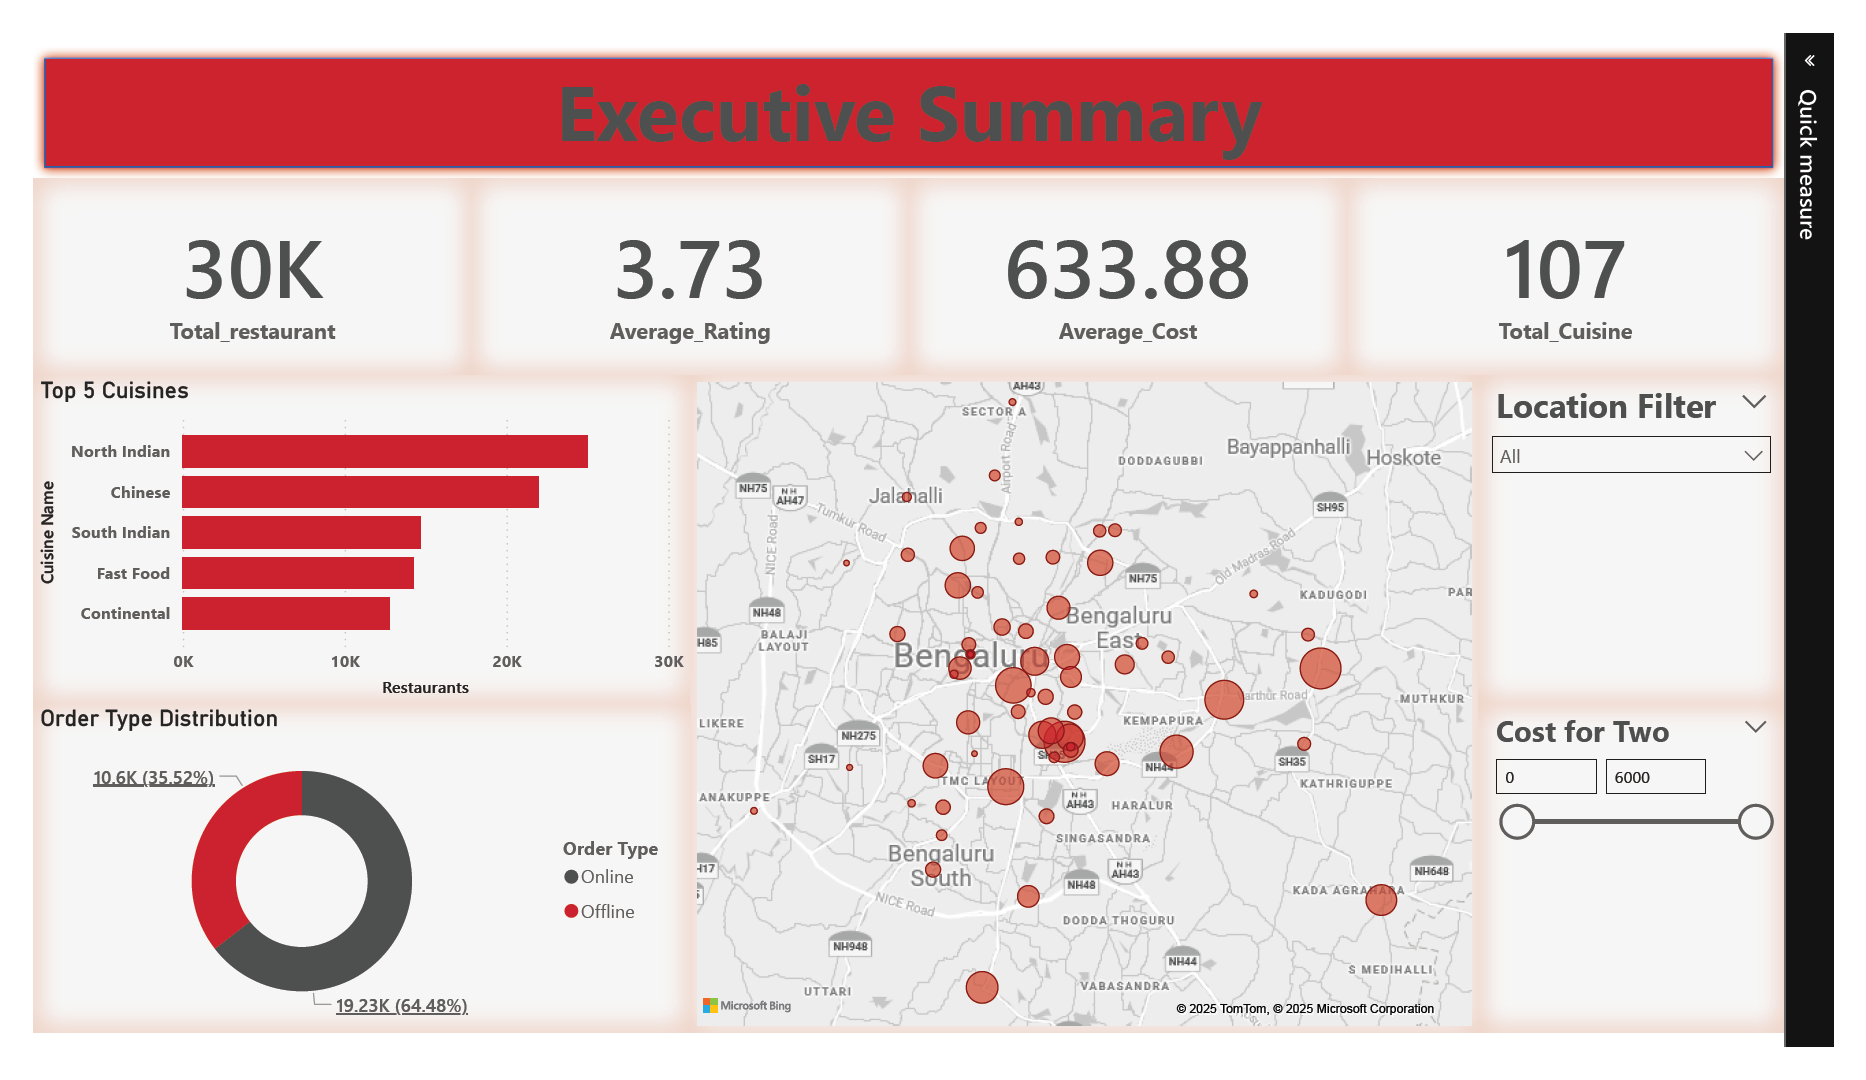

The dashboard page shown, as its layout file describes it:
{"tool":"powerbi","page":{"name":"Executive Summary","canvas":[1280,720],"ordinal":0},"visuals":[{"type":"shape","box":[0,0,1280,96],"z":0},{"type":"card","fields":{"Values":["zomato_db restaurants.Total_restaurant"]},"box":[0,96,320,144],"z":1},{"type":"card","fields":{"Values":["zomato_db restaurants.Average_Rating"]},"box":[320,96,320,144],"z":2},{"type":"card","fields":{"Values":["zomato_db restaurants.Average_Cost"]},"box":[640,96,320,144],"z":3},{"type":"card","fields":{"Values":["zomato_db cuisines.Total_Cuisine"]},"box":[960,96,320,144],"z":4},{"type":"barChart","title":"Top 5 Cuisines","fields":{"Category":["zomato_db cuisines.cuisine_name"],"Y":["zomato_db restaurants.Total_restaurant"]},"box":[0,240,480,240],"z":5},{"type":"map","fields":{"Category":["zomato_db restaurants.location"],"Size":["CountNonNull(zomato_db restaurants.rating)"]},"box":[480,240,576,480],"z":6},{"type":"donutChart","title":"Order Type Distribution","fields":{"Category":["zomato_db restaurants.has_online_order"],"Y":["CountNonNull(zomato_db restaurants.restaurant_id)"]},"box":[0,480,480,240],"z":7},{"type":"slicer","fields":{"Values":["zomato_db restaurants.location"]},"box":[1056,240,224,240],"z":9},{"type":"slicer","fields":{"Values":["zomato_db restaurants.cost_for_two"]},"box":[1056,480,224,240],"z":10}]}

Visuals, with their boxes on the page's 1280x720 design canvas (x1, y1, x2, y2). These are canvas units, not pixel positions in the 1866x1080 screenshot, which may show the page scaled, cropped or inside an application window:
shape: l=0, t=0, r=1280, b=96
card - zomato_db restaurants.Total_restaurant: l=0, t=96, r=320, b=240
card - zomato_db restaurants.Average_Rating: l=320, t=96, r=640, b=240
card - zomato_db restaurants.Average_Cost: l=640, t=96, r=960, b=240
card - zomato_db cuisines.Total_Cuisine: l=960, t=96, r=1280, b=240
"Top 5 Cuisines" barChart: l=0, t=240, r=480, b=480
map - zomato_db restaurants.location x CountNonNull(zomato_db restaurants.rating): l=480, t=240, r=1056, b=720
"Order Type Distribution" donutChart: l=0, t=480, r=480, b=720
slicer - zomato_db restaurants.location: l=1056, t=240, r=1280, b=480
slicer - zomato_db restaurants.cost_for_two: l=1056, t=480, r=1280, b=720
